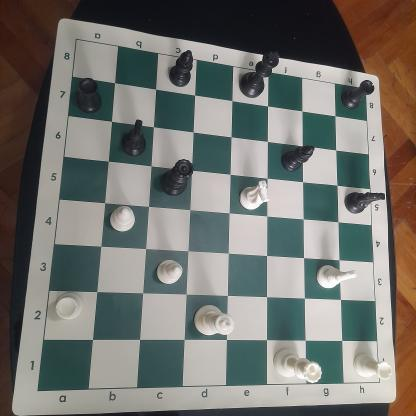black-bishop: (168, 48, 196, 88), (279, 144, 315, 173)
black-king: (238, 50, 280, 100)
black-knight: (343, 189, 386, 216), (120, 118, 147, 158)
black-queen: (158, 157, 194, 199)
black-rook: (339, 78, 376, 112), (74, 75, 105, 114)
white-bishop: (108, 203, 138, 235), (155, 256, 183, 286)
white-king: (192, 303, 238, 338)
white-knight: (315, 260, 359, 292), (236, 178, 270, 213)
white-queen: (271, 343, 324, 385)
white-rook: (351, 348, 394, 384), (53, 291, 85, 322)
